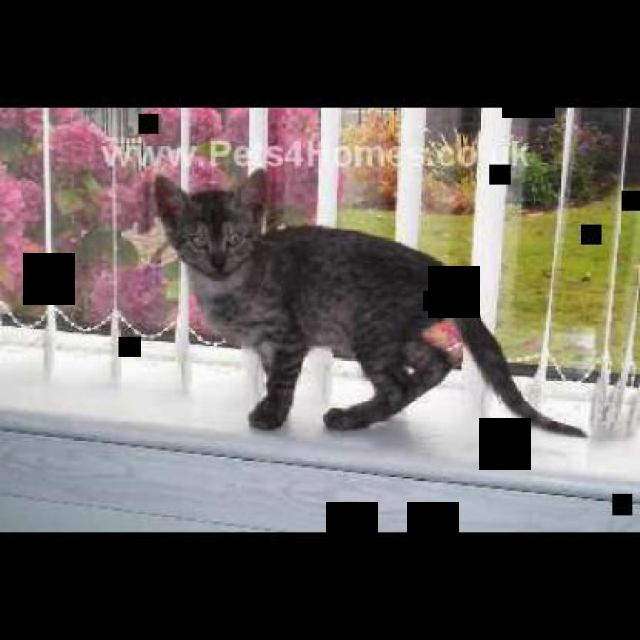unauthorized: (152, 166, 588, 439)
